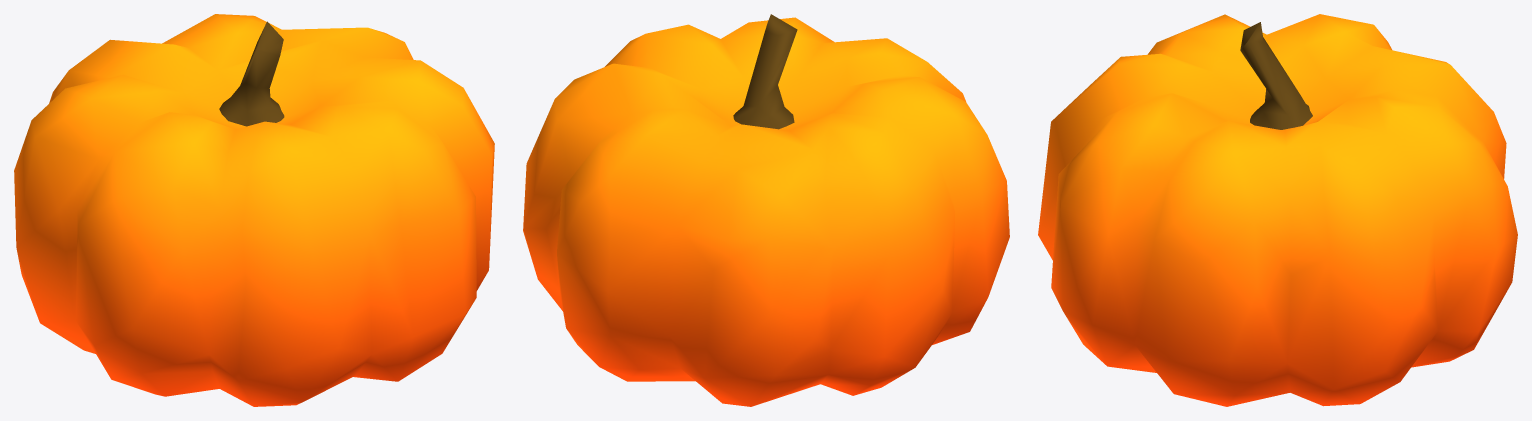
Rendered from PlainPumpkin.glb.
The picture shows the model from 3 angles, left to right: view 1: azimuth 30°, elevation 25°; view 2: azimuth 150°, elevation 25°; view 3: azimuth 270°, elevation 25°; orthographic projection.
Parts seen in each view (by area): view 1: PlainPumpkin; view 2: PlainPumpkin; view 3: PlainPumpkin.
Boxes of the visible parts, box(x1,y1,x2,y2) form: PlainPumpkin: box(14, 14, 494, 406); PlainPumpkin: box(523, 14, 1009, 406); PlainPumpkin: box(1038, 14, 1517, 406).
Size of what is drawn, in the model's own units: 0.8725 by 0.6603 by 0.8831.
1 material, 1 textured.
